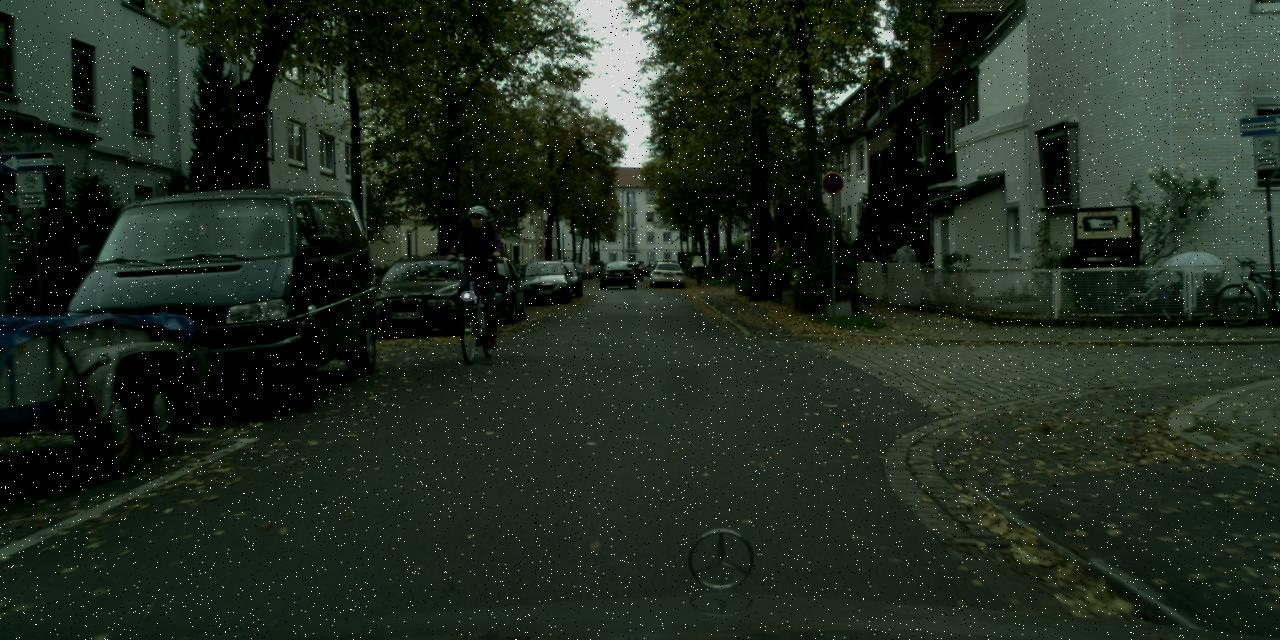ped: (450, 205, 506, 341), (894, 240, 920, 300), (692, 252, 704, 280)
